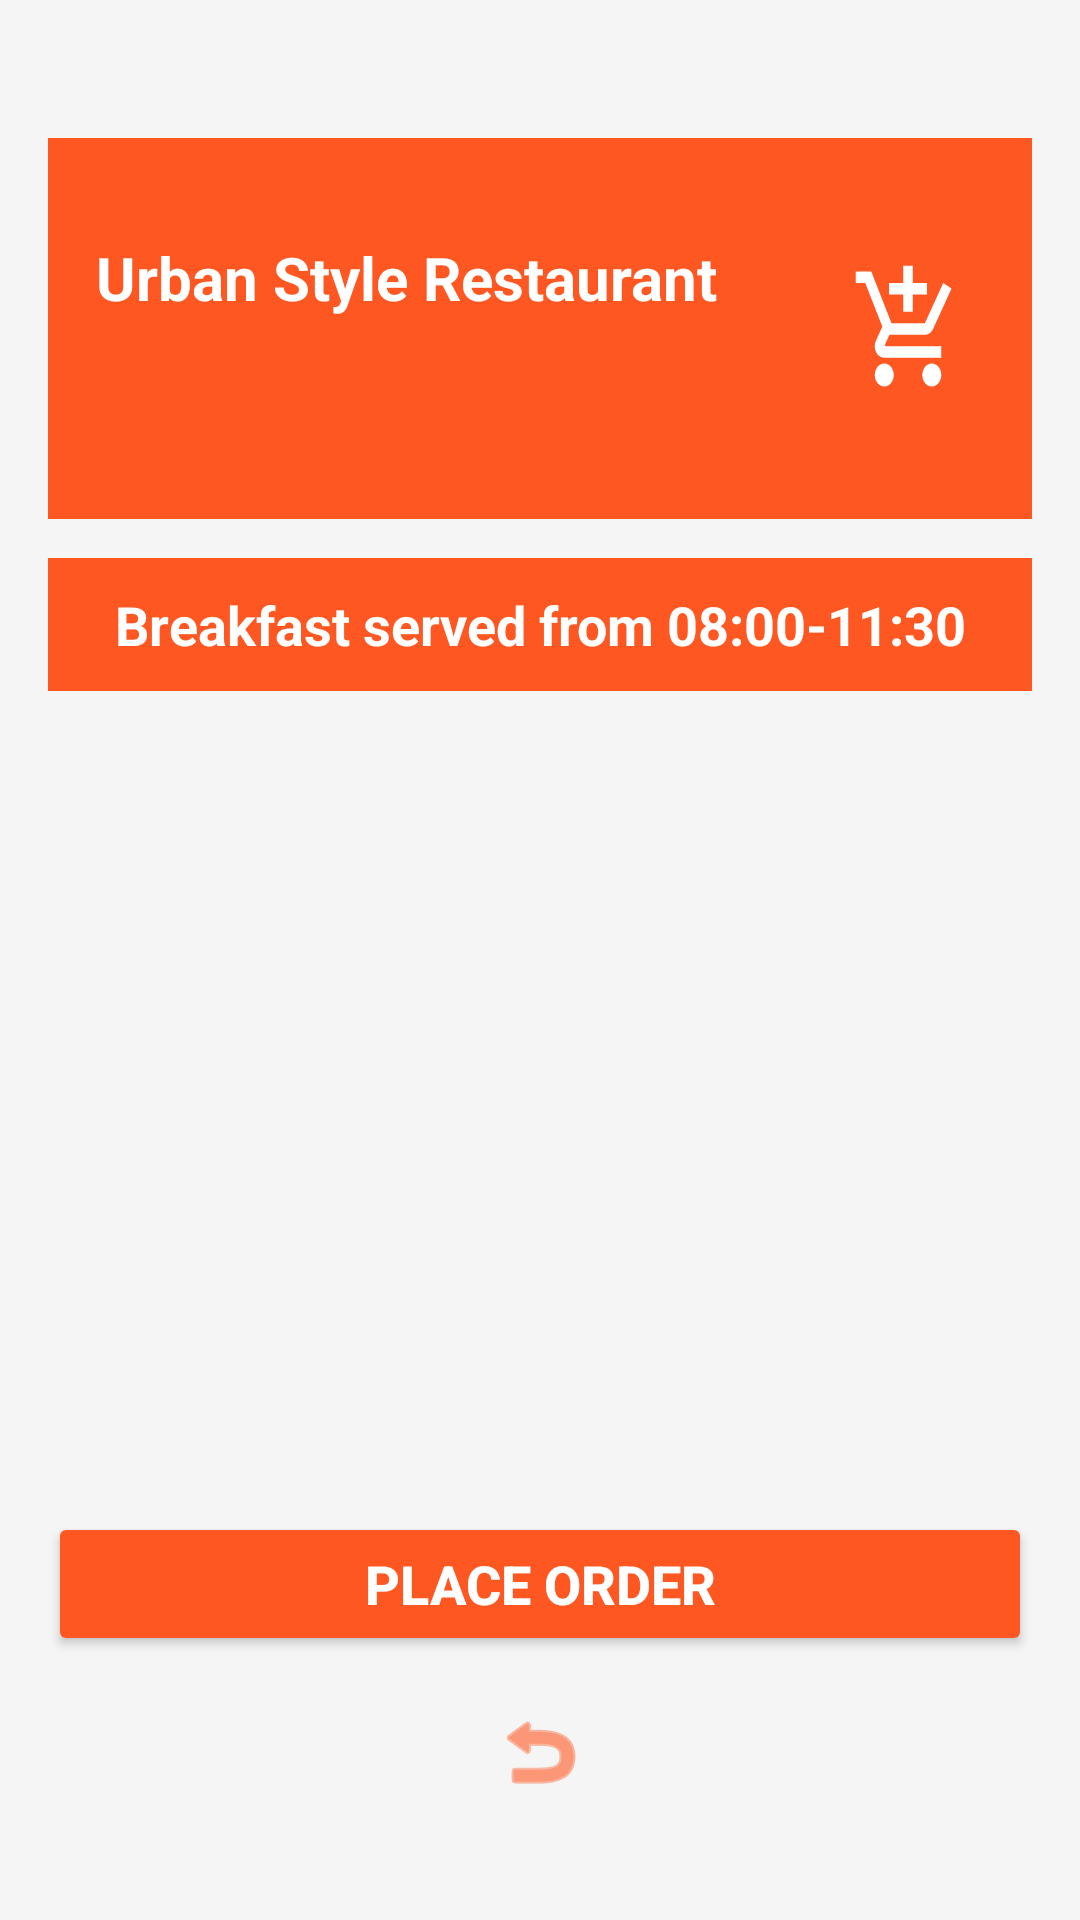

Named icons in this screenshot (1080 × 1920) and their bounding boxes, (x1, y1, x2, y2):
revert: (507, 1721, 576, 1784)
shopping cart: (855, 265, 952, 387)
